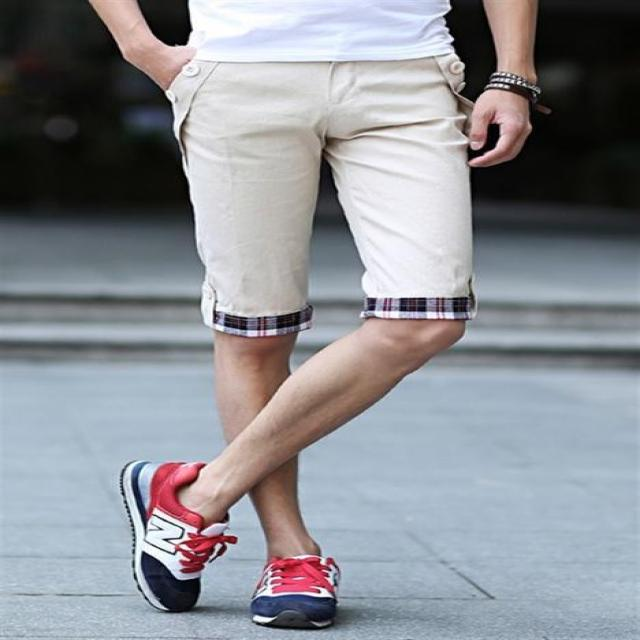shorts: (155, 30, 512, 371)
